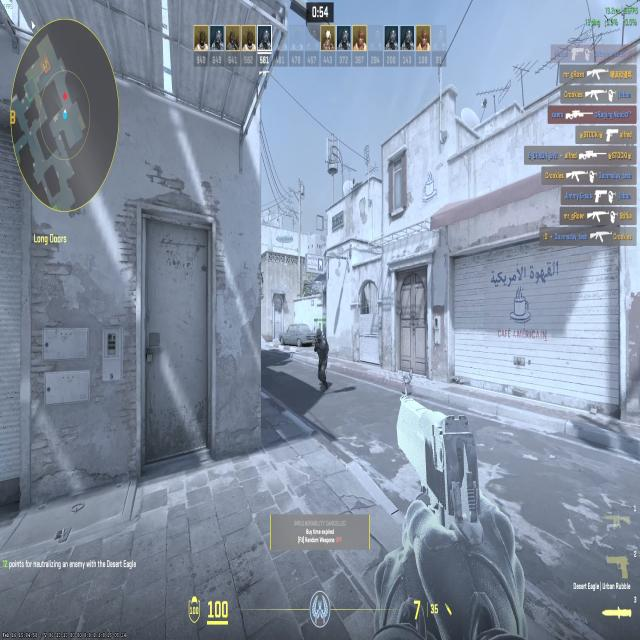player: (310, 326, 334, 394)
